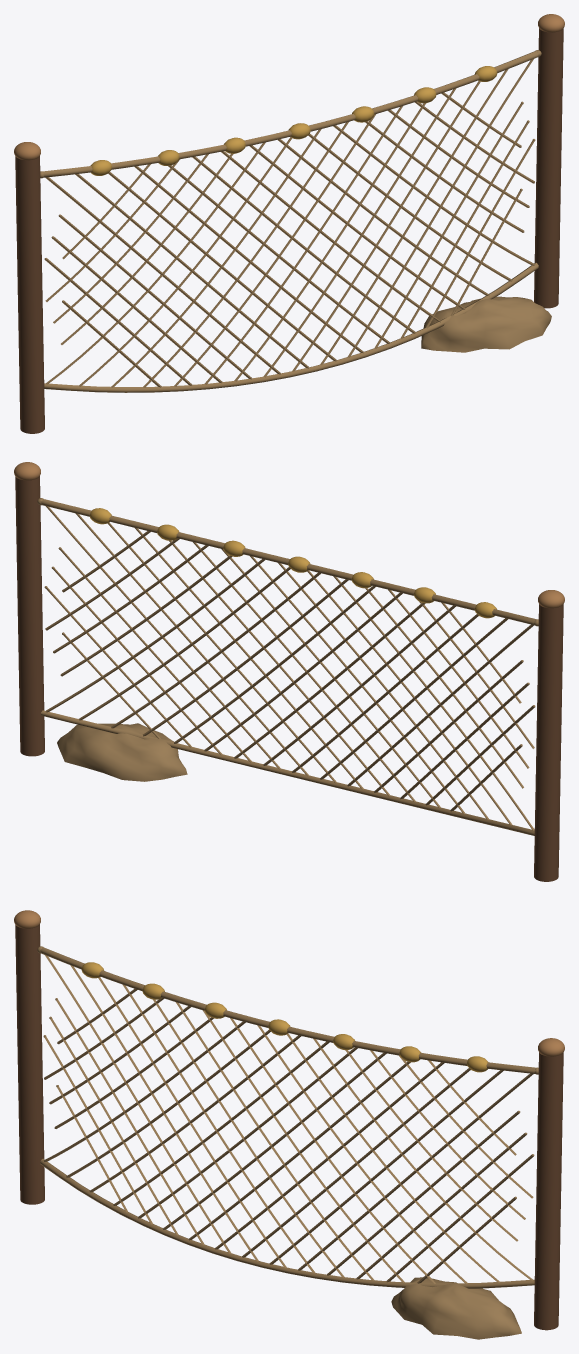
The model's file is detail_fishing_nets.glb.
3 renders of one model, top to bottom at view 1: azimuth 30°, elevation 25°; view 2: azimuth 150°, elevation 25°; view 3: azimuth 330°, elevation 25°, orthographic.
Visible parts, largest first — view 1: cloth; view 2: cloth; view 3: cloth.
Part boxes in pixels (box(x1,y1,x2,y2)): cloth: box(14, 14, 564, 433); cloth: box(14, 462, 564, 881); cloth: box(14, 910, 564, 1339).
Bounding box in the file's own units: 2.8 × 1.4 × 0.4.
